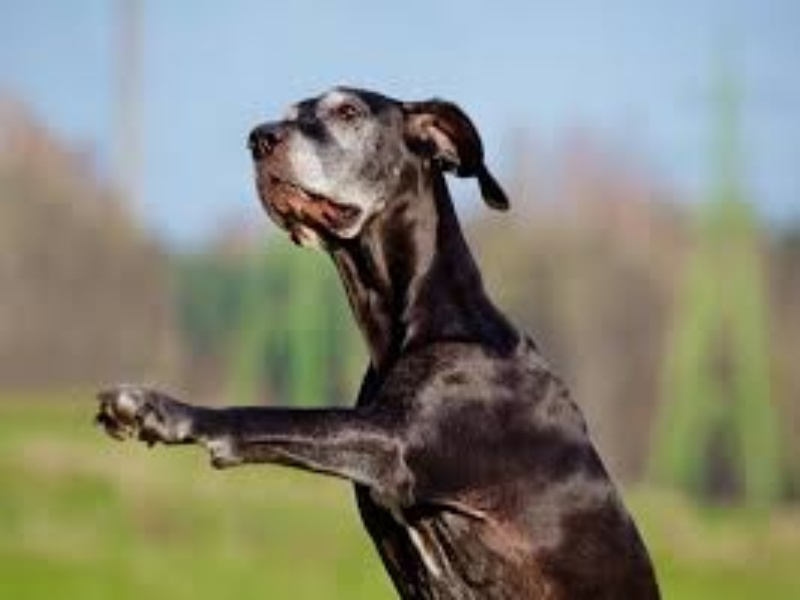dog: (91, 79, 664, 600)
